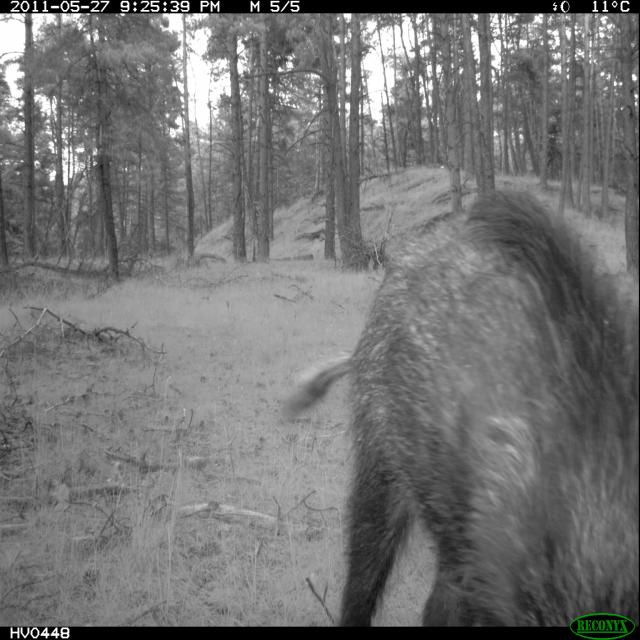boar: (209, 188, 630, 640)
